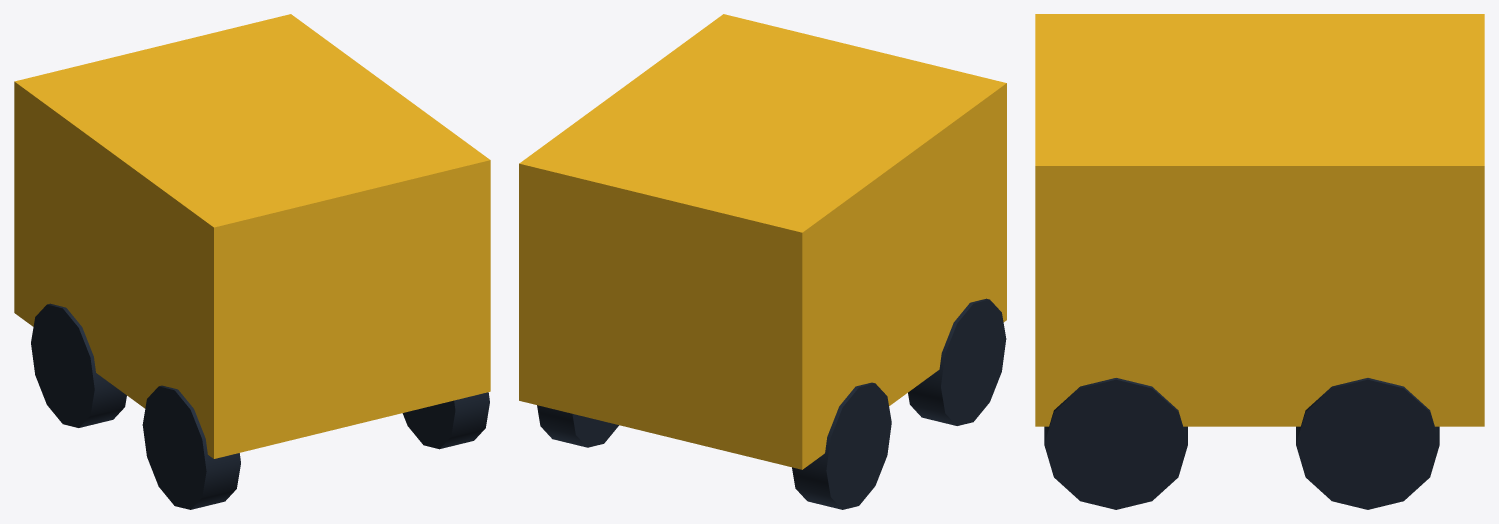
Rendered from yard-jockey-body-authored-atlas.glb.
3 renders of one model, left to right at view 1: azimuth 30°, elevation 25°; view 2: azimuth 150°, elevation 25°; view 3: azimuth 270°, elevation 25°, orthographic. The views are drawn at different scales.
Visible parts, largest first — view 1: Authored surface.020; view 2: Authored surface.020; view 3: Authored surface.020.
Part boxes in pixels (box(x1,y1,x2,y2)): Authored surface.020: box(14, 14, 490, 509); Authored surface.020: box(519, 14, 1006, 509); Authored surface.020: box(1035, 14, 1484, 509).
Size of the model in its own units: 2.05 by 2.1 by 2.5.
1 material, 1 textured.
